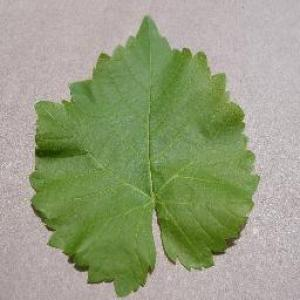Folha: (28, 14, 260, 298)
